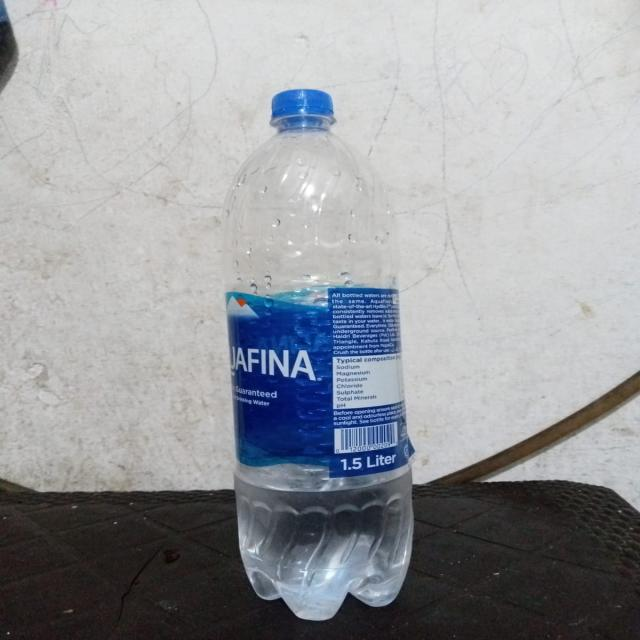bottle: (188, 63, 420, 624)
cap: (253, 89, 343, 140)
label: (201, 272, 421, 494)
